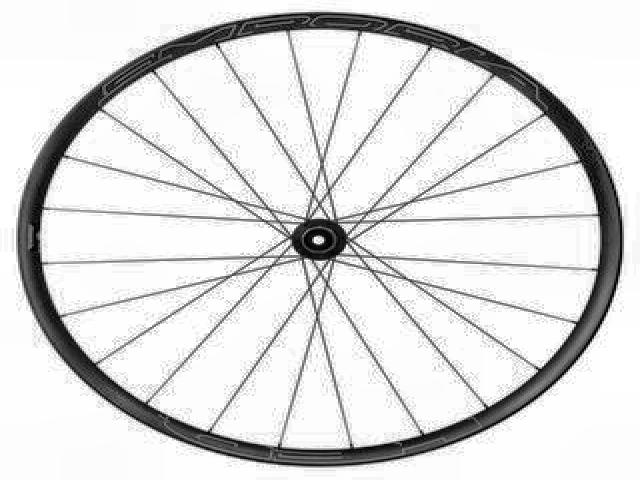wheel: (12, 9, 628, 473)
